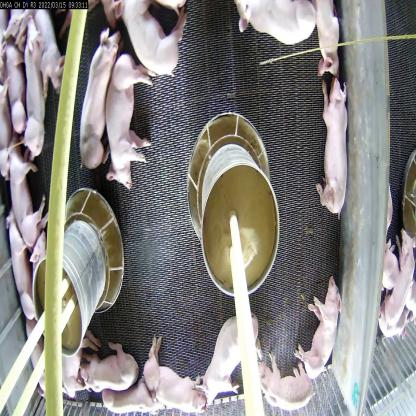Pig: (98, 43, 154, 189), (21, 9, 63, 167), (77, 21, 119, 164), (113, 0, 191, 76), (205, 307, 259, 415), (312, 74, 352, 218), (295, 278, 346, 384), (234, 0, 322, 58), (144, 339, 209, 415), (377, 220, 416, 342), (254, 352, 325, 415), (4, 129, 42, 240), (308, 0, 347, 93), (80, 336, 133, 396), (7, 230, 32, 310)
